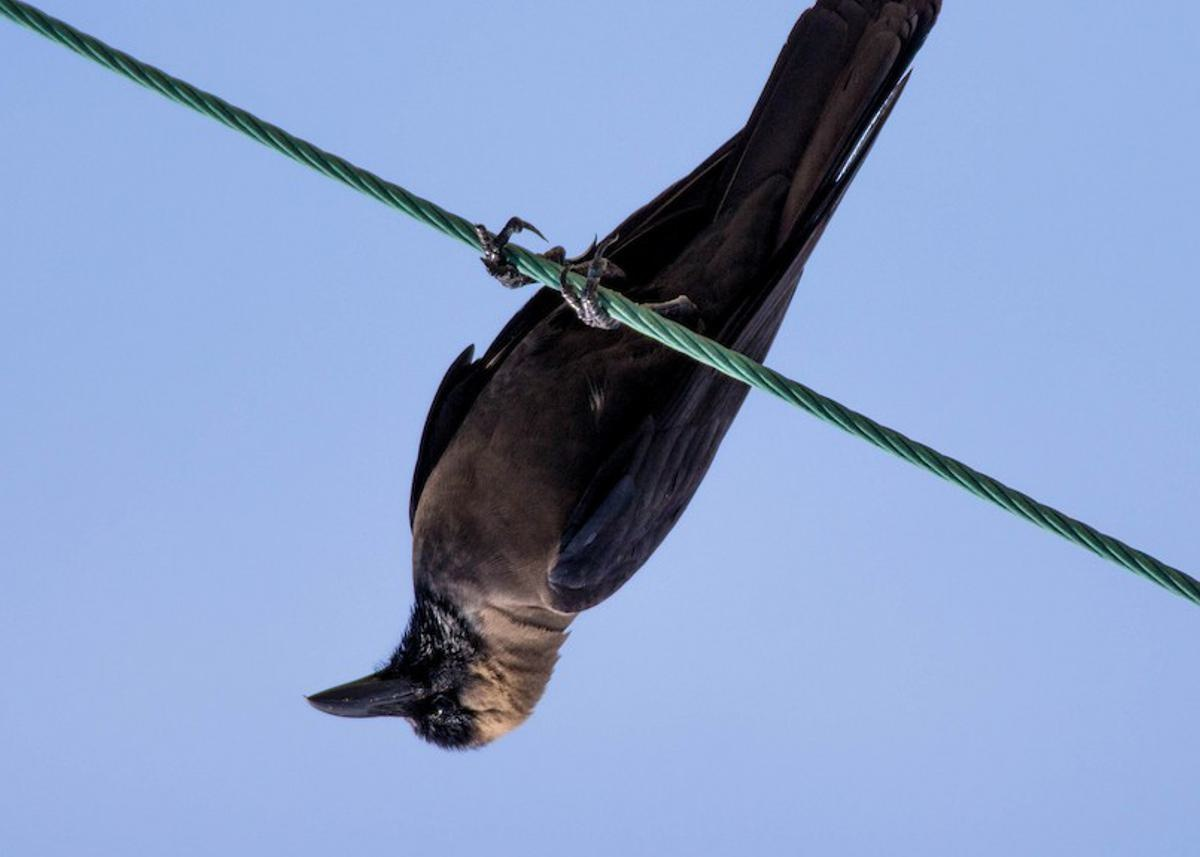crow: (305, 1, 1030, 768)
